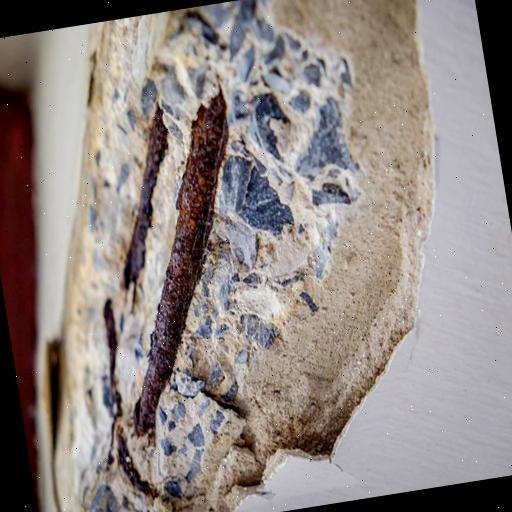spalling: (46, 0, 432, 512)
